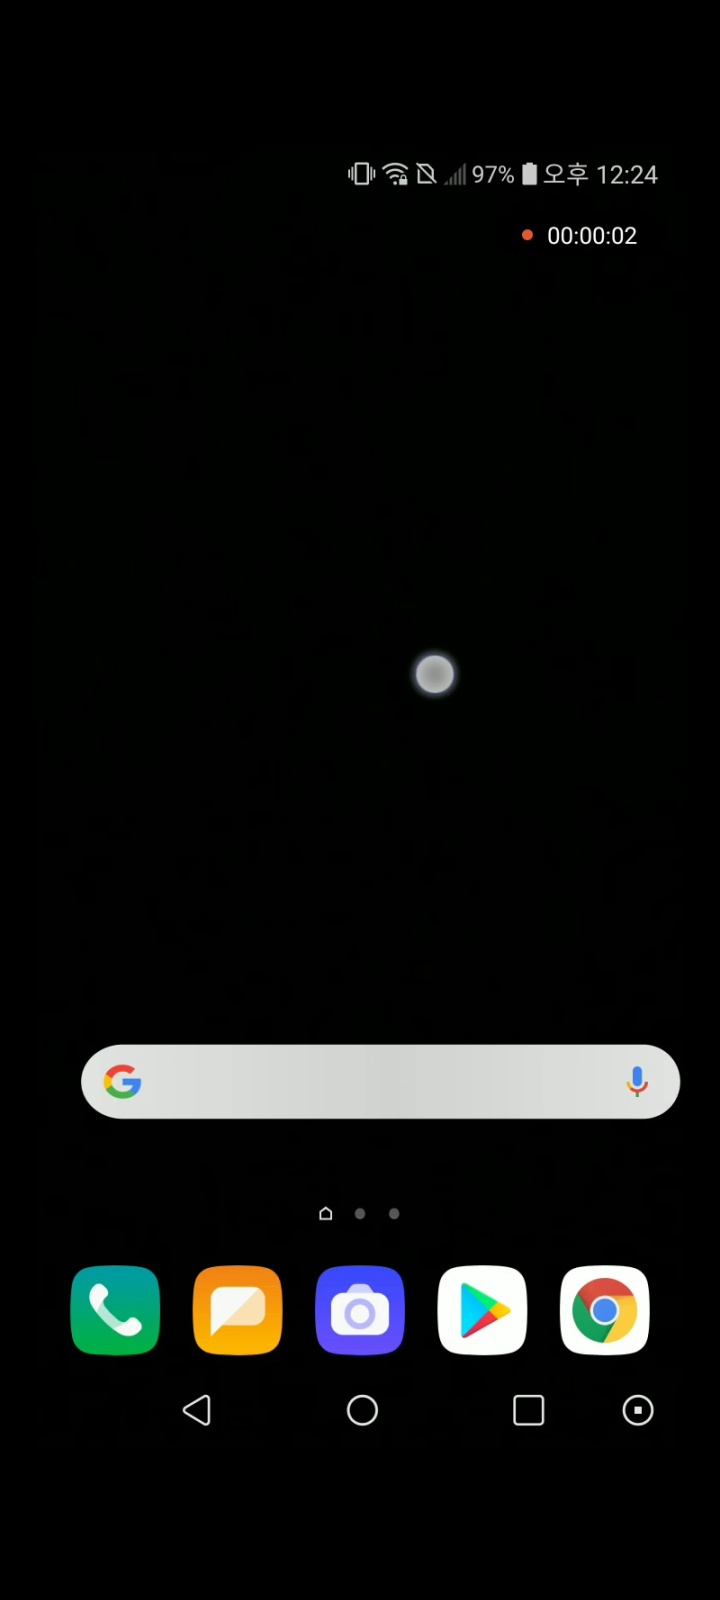Cursor: (414, 652, 459, 697)
